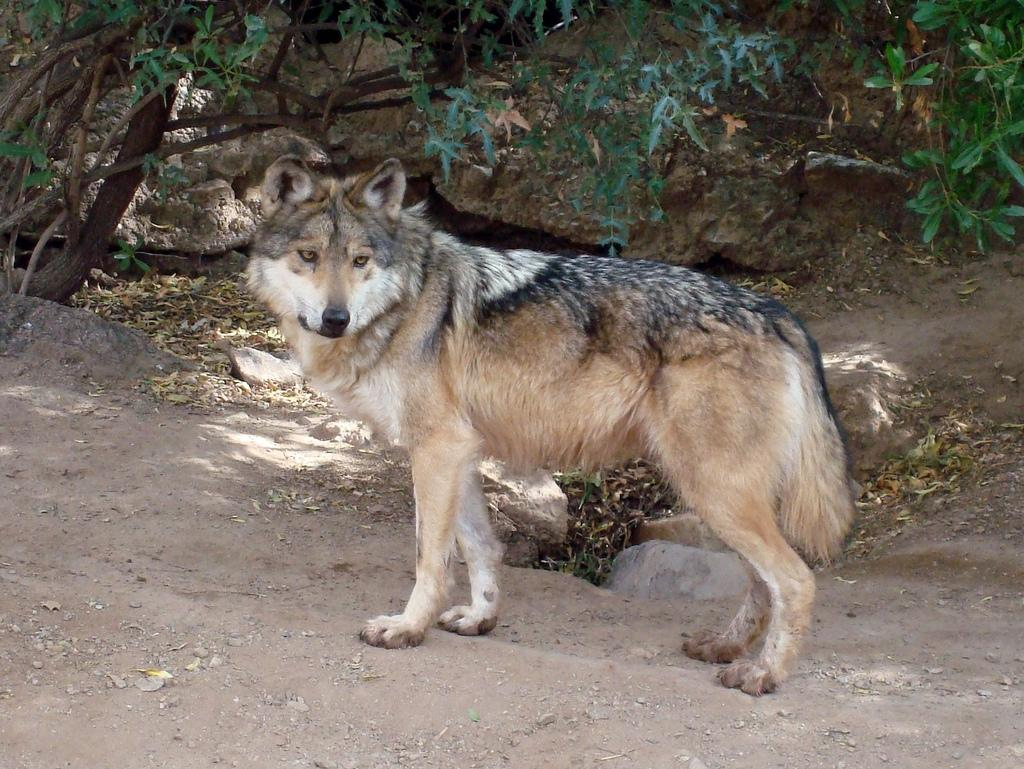Wolf: (243, 146, 856, 706)
